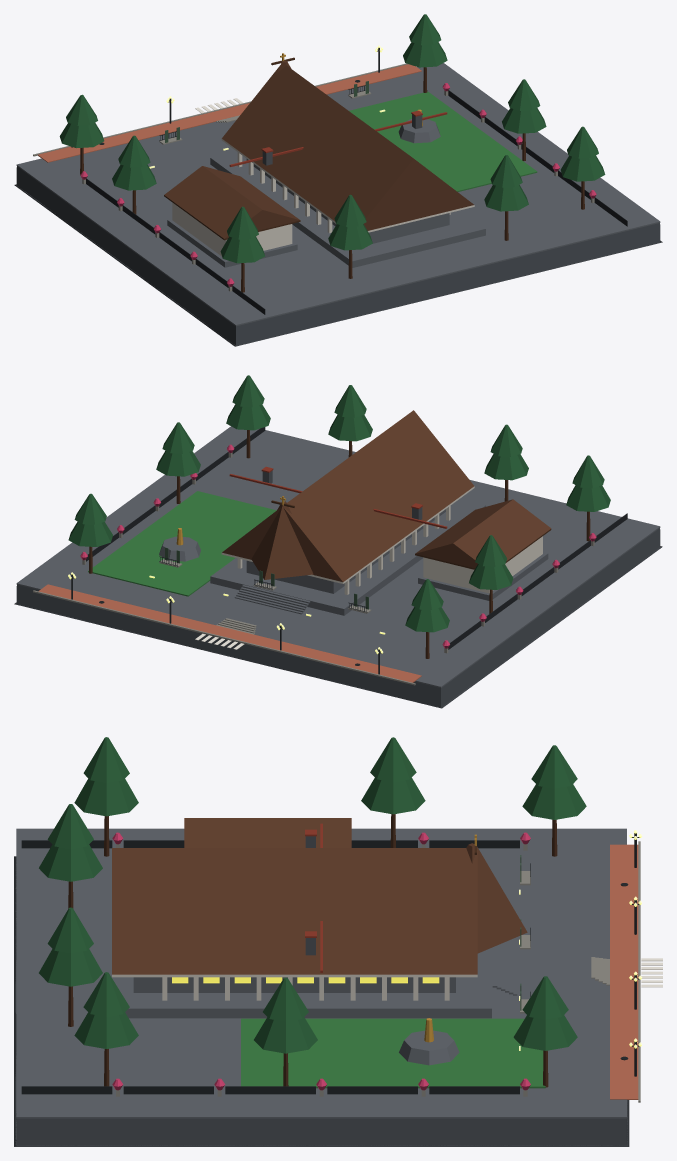
File: lm_26_nha_tho_cam_ly.glb
The picture shows the model from 3 angles, top to bottom: view 1: azimuth 30°, elevation 25°; view 2: azimuth 150°, elevation 25°; view 3: azimuth 270°, elevation 25°; orthographic projection. The views are drawn at different scales.
Visible parts, largest first — view 1: Foundation_Plinth_Trim, CamLy_Church_Main_Rong_Roof, Foundation_Skirt, CamLy_Pine_Grove_Canopies, CamLy_Basalt_Walls_And_Steps, CamLy_Garden_Lawns, CamLy_Parish_Rectory_Roof, Phase2_Interlocking_Brick_Sidewalk, Phase2_WroughtIron_Balconies_Railings_Manholes, CamLy_Exposed_Concrete_Pillars, Phase2_Granite_Curb_And_Entry_Steps, CamLy_Timber_Trunks_And_Horns (+3 smaller); view 2: Foundation_Plinth_Trim, CamLy_Church_Main_Rong_Roof, CamLy_Pine_Grove_Canopies, Foundation_Skirt, CamLy_Garden_Lawns, CamLy_Basalt_Walls_And_Steps, CamLy_Parish_Rectory_Roof, Phase2_Interlocking_Brick_Sidewalk, Phase2_WroughtIron_Balconies_Railings_Manholes, CamLy_Towering_Rong_Tile_Roof, CamLy_Exposed_Concrete_Pillars, Phase2_Granite_Curb_And_Entry_Steps (+4 smaller); view 3: Foundation_Plinth_Trim, CamLy_Church_Main_Rong_Roof, CamLy_Pine_Grove_Canopies, Foundation_Skirt, CamLy_Basalt_Walls_And_Steps, CamLy_Garden_Lawns, Phase2_Interlocking_Brick_Sidewalk, Phase2_WroughtIron_Balconies_Railings_Manholes, CamLy_Parish_Rectory_Roof, CamLy_Towering_Rong_Tile_Roof, Phase2_Granite_Curb_And_Entry_Steps, CamLy_Timber_Trunks_And_Horns (+4 smaller).
Boxes of the visible parts, x1,y1,x2,y2 form: Foundation_Plinth_Trim: (16, 63, 660, 326); CamLy_Church_Main_Rong_Roof: (222, 65, 473, 230); Foundation_Skirt: (14, 166, 662, 346); CamLy_Pine_Grove_Canopies: (59, 14, 605, 263); CamLy_Basalt_Walls_And_Steps: (167, 119, 485, 267); CamLy_Garden_Lawns: (349, 91, 537, 191); CamLy_Parish_Rectory_Roof: (164, 166, 300, 238); Phase2_Interlocking_Brick_Sidewalk: (37, 64, 421, 162); Phase2_WroughtIron_Balconies_Railings_Manholes: (71, 47, 627, 314); CamLy_Exposed_Concrete_Pillars: (172, 152, 450, 256); Phase2_Granite_Curb_And_Entry_Steps: (33, 63, 594, 291); CamLy_Timber_Trunks_And_Horns: (80, 57, 584, 292); Foundation_Plinth_Trim: (16, 426, 660, 687); CamLy_Church_Main_Rong_Roof: (222, 410, 474, 581); CamLy_Pine_Grove_Canopies: (68, 375, 610, 632); Foundation_Skirt: (14, 528, 662, 708); CamLy_Garden_Lawns: (88, 491, 276, 596); CamLy_Basalt_Walls_And_Steps: (159, 499, 548, 615); CamLy_Parish_Rectory_Roof: (415, 499, 550, 568); Phase2_Interlocking_Brick_Sidewalk: (38, 584, 421, 682); Phase2_WroughtIron_Balconies_Railings_Manholes: (71, 427, 627, 674); CamLy_Towering_Rong_Tile_Roof: (251, 501, 313, 579); CamLy_Exposed_Concrete_Pillars: (237, 506, 542, 594); Phase2_Granite_Curb_And_Entry_Steps: (33, 452, 594, 685); Foundation_Plinth_Trim: (16, 828, 626, 1118); CamLy_Church_Main_Rong_Roof: (112, 848, 477, 974); CamLy_Pine_Grove_Canopies: (39, 737, 586, 1053); Foundation_Skirt: (14, 856, 629, 1146); CamLy_Basalt_Walls_And_Steps: (97, 918, 517, 1065); CamLy_Garden_Lawns: (241, 1018, 545, 1088); Phase2_Interlocking_Brick_Sidewalk: (610, 844, 638, 1099); Phase2_WroughtIron_Balconies_Railings_Manholes: (21, 833, 639, 1094); CamLy_Parish_Rectory_Roof: (184, 818, 351, 847); CamLy_Towering_Rong_Tile_Roof: (466, 843, 527, 953); Phase2_Granite_Curb_And_Entry_Steps: (116, 841, 640, 1102); CamLy_Timber_Trunks_And_Horns: (68, 814, 557, 1087).
Size of the model in its own units: 76.78 by 20.5 by 72.45.
